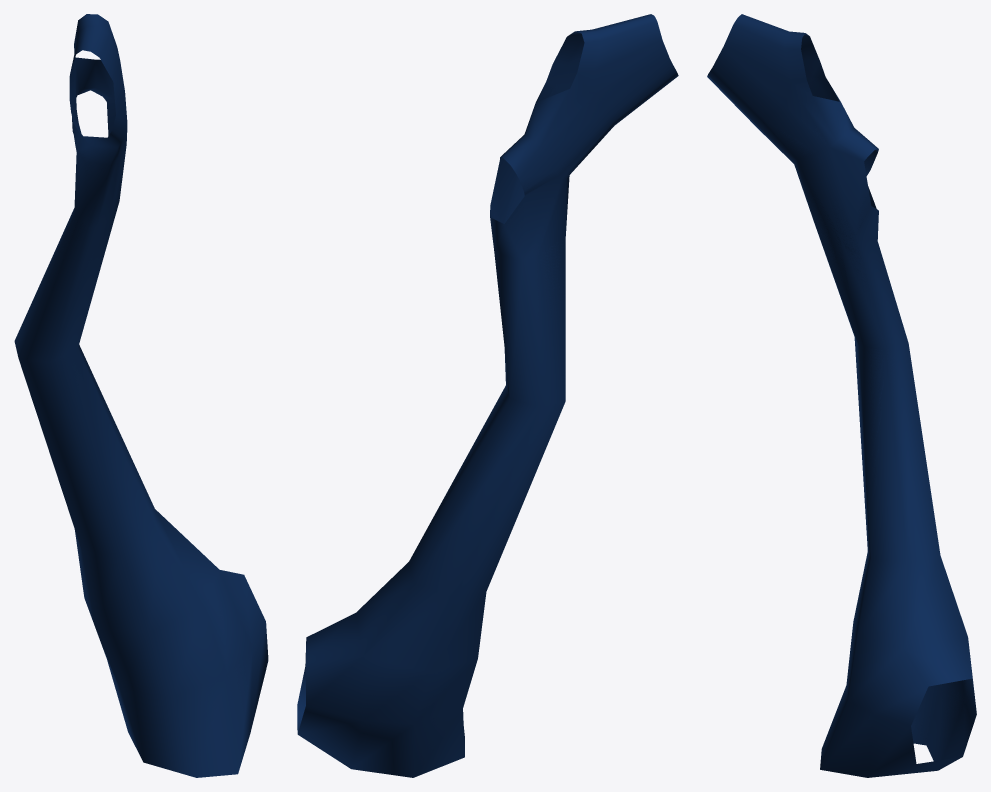
File: L vena axillaris.fbx
The picture shows the model from 3 angles, left to right: view 1: azimuth 30°, elevation 25°; view 2: azimuth 150°, elevation 25°; view 3: azimuth 270°, elevation 25°; orthographic projection. The views are drawn at different scales.
Visible parts, largest first — view 1: L vena axillaris, L vena axillaris low; view 2: L vena axillaris, L vena axillaris low; view 3: L vena axillaris, L vena axillaris low.
Part boxes in pixels (x1=…): L vena axillaris: x1=14, y1=14, x2=268, y2=777; L vena axillaris low: x1=19, y1=14, x2=264, y2=777; L vena axillaris: x1=297, y1=14, x2=678, y2=777; L vena axillaris low: x1=304, y1=19, x2=675, y2=769; L vena axillaris: x1=707, y1=14, x2=976, y2=777; L vena axillaris low: x1=711, y1=21, x2=975, y2=776.
Size of the model in its own units: 2.48 by 6.22 by 2.26.
